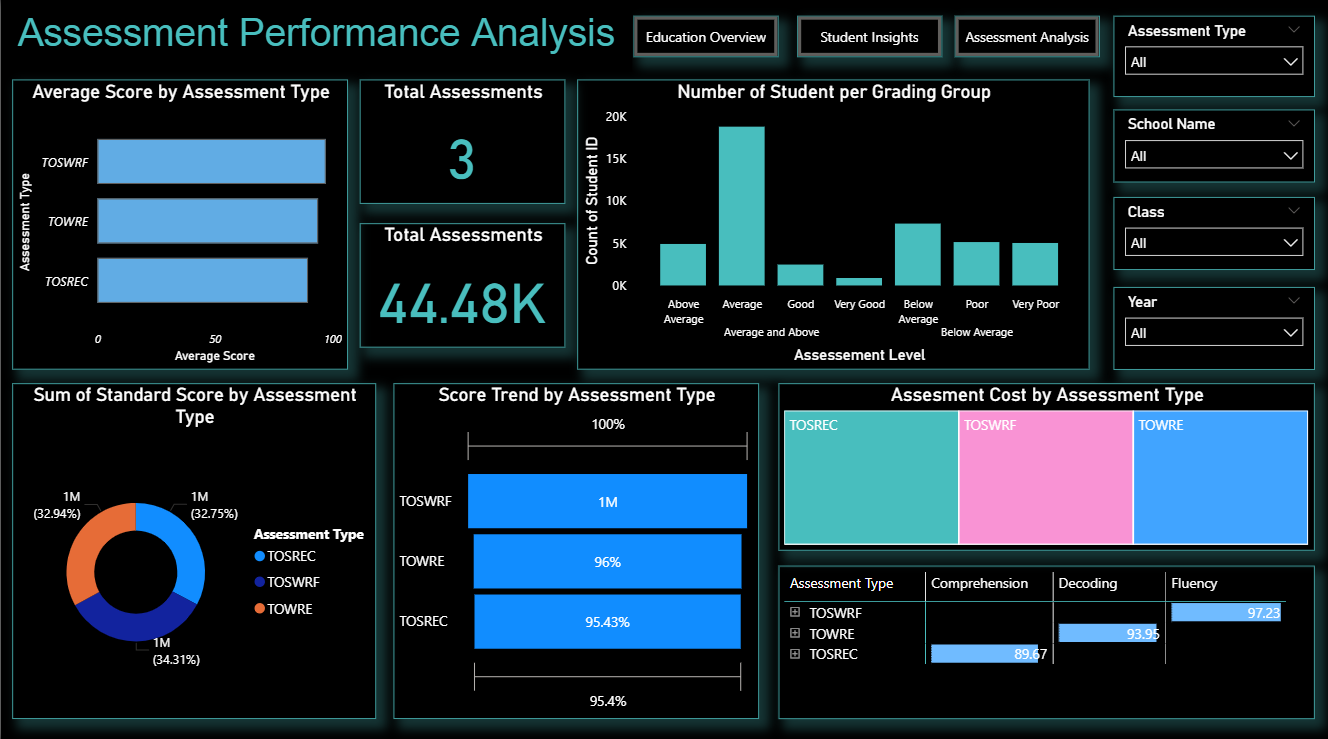

This screenshot's page, from the dashboard's own definition file:
{"tool":"powerbi","page":{"name":"Assessment Analysis","canvas":[1280,720],"ordinal":2},"visuals":[{"type":"actionButton","box":[768.6,18.6,140,40],"z":0},{"type":"actionButton","box":[610,18.6,140,40],"z":1000},{"type":"actionButton","box":[920,18.6,140,40],"z":2000},{"type":"textbox","box":[11.4,2.9,598.6,70],"z":3000},{"type":"card","title":"Total Assessments","fields":{"Values":["CountNonNull(Tests.Assessement Level ID)"]},"box":[345.7,218.6,198.6,120],"z":4000},{"type":"clusteredBarChart","title":"Average Score by Assessment Type","fields":{"Category":["Tests.Assessment Type"],"Y":["Avg(Tests.Standard Score)"]},"box":[11.4,80,324.3,280],"z":5000},{"type":"columnChart","title":"Number of Student per Grading Group","fields":{"Y":["CountNonNull(Tests.Student ID)"],"Category":["Grading_Groups.Level Grouping","Grading_Groups.Assessement Level"]},"box":[555.7,80,494.3,280],"z":6000},{"type":"funnel","title":"Score Trend by Assessment Type","fields":{"Category":["Test_Details.Assessment Type"],"Y":["Sum(Tests.Standard Score)"]},"box":[378.7,373.2,352.7,323.8],"z":7000},{"type":"pivotTable","fields":{"Rows":["Tests.Assessment Type","Test_Details.Description"],"Values":["Avg(Tests.Standard Score)"],"Columns":["Test_Details.Assessment Group"]},"box":[750.6,548.9,517.3,148.2],"z":8000},{"type":"slicer","fields":{"Values":["Tests.Assessment Type"]},"box":[1074.3,18.6,194.3,78.6],"z":9000},{"type":"slicer","fields":{"Values":["Schools.School Name"]},"box":[1074.3,108.6,194.3,70],"z":10000},{"type":"slicer","fields":{"Values":["Tests.School Year / Grade / Class"]},"box":[1074.3,192.9,194.3,70],"z":11000},{"type":"slicer","fields":{"Values":["Students.Date of Birth.Variation.Date Hierarchy.Year"]},"box":[1074.3,280,194.3,80],"z":12000},{"type":"treemap","title":"Assesment Cost by Assessment Type","fields":{"Group":["Tests.Assessment Type"],"Values":["Sum(Test_Details.Assesment Cost)"]},"box":[750.6,373.2,517.3,161.9],"z":13000},{"type":"card","title":"Total Assessments","fields":{"Values":["Count(Test_Details.Assessment Type)"]},"box":[345.7,80,198.6,120],"z":14000},{"type":"donutChart","fields":{"Category":["Students.Student Name","Tests.Grade at Assessment","Test_Details.Assessment Type"],"Y":["Sum(Tests.Standard Score)"]},"box":[11,373.2,351.3,323.8],"z":15000}]}

Visuals, with their boxes in screenshot pixels (x1, y1, x2, y2), scaled from the page's 1280x720 canvas onto the 1328x739 screenshot:
actionButton: (left=797, top=19, right=943, bottom=60)
actionButton: (left=633, top=19, right=778, bottom=60)
actionButton: (left=955, top=19, right=1100, bottom=60)
textbox: (left=12, top=3, right=633, bottom=75)
"Total Assessments" card: (left=359, top=224, right=565, bottom=348)
"Average Score by Assessment Type" clusteredBarChart: (left=12, top=82, right=348, bottom=369)
"Number of Student per Grading Group" columnChart: (left=577, top=82, right=1089, bottom=369)
"Score Trend by Assessment Type" funnel: (left=393, top=383, right=759, bottom=715)
pivotTable - Tests.Assessment Type x Test_Details.Description: (left=779, top=563, right=1315, bottom=715)
slicer - Tests.Assessment Type: (left=1115, top=19, right=1316, bottom=100)
slicer - Schools.School Name: (left=1115, top=111, right=1316, bottom=183)
slicer - Tests.School Year / Grade / Class: (left=1115, top=198, right=1316, bottom=270)
slicer - Students.Date of Birth.Variation.Date Hierarchy.Year: (left=1115, top=287, right=1316, bottom=369)
"Assesment Cost by Assessment Type" treemap: (left=779, top=383, right=1315, bottom=549)
"Total Assessments" card: (left=359, top=82, right=565, bottom=205)
donutChart - Students.Student Name x Tests.Grade at Assessment: (left=11, top=383, right=376, bottom=715)
